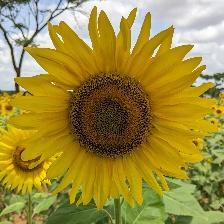sunflower: (23, 21, 217, 195), (1, 126, 67, 196), (192, 137, 208, 152), (6, 99, 16, 116), (216, 106, 224, 119), (209, 118, 219, 127), (209, 101, 216, 111)
